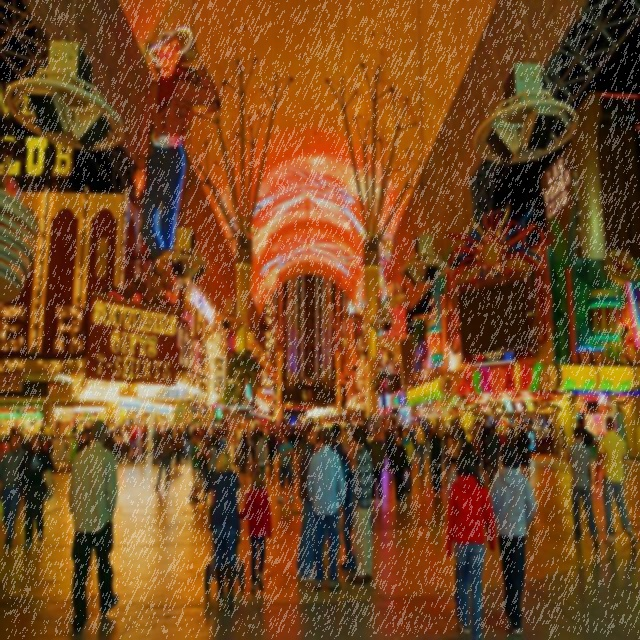pessoa: (133, 20, 222, 308), (64, 417, 120, 633), (443, 448, 500, 638), (487, 439, 538, 637), (304, 424, 348, 592), (445, 440, 487, 600), (206, 446, 242, 614), (593, 413, 638, 546), (16, 430, 56, 550), (235, 466, 272, 594), (346, 422, 374, 586), (348, 420, 376, 577), (566, 424, 600, 550), (294, 421, 320, 584), (338, 438, 362, 575), (0, 432, 27, 549), (388, 432, 410, 507), (366, 426, 386, 506), (274, 430, 295, 503), (64, 408, 98, 452), (426, 424, 446, 498), (499, 431, 522, 492), (187, 433, 207, 503), (576, 416, 596, 482), (483, 422, 503, 488), (152, 428, 172, 491), (400, 429, 417, 497), (202, 434, 220, 497), (514, 422, 532, 484), (330, 421, 350, 468), (212, 429, 226, 491), (444, 426, 461, 476), (414, 418, 428, 477), (120, 422, 138, 464), (253, 430, 265, 490), (199, 435, 210, 498), (383, 422, 396, 474), (468, 428, 482, 476), (290, 420, 304, 464), (556, 423, 571, 463), (150, 424, 163, 466), (246, 413, 276, 431), (237, 429, 249, 473), (108, 430, 123, 464), (12, 416, 39, 434), (137, 422, 148, 464), (478, 423, 488, 469), (38, 423, 55, 450), (526, 410, 553, 426), (466, 412, 489, 429), (188, 420, 212, 435), (250, 425, 259, 463), (266, 432, 276, 466), (174, 431, 183, 466), (182, 421, 190, 458), (374, 413, 392, 429), (212, 417, 229, 432), (170, 430, 176, 470), (397, 420, 414, 432), (449, 408, 459, 428), (460, 429, 470, 448), (118, 414, 136, 424), (276, 423, 282, 447), (168, 422, 182, 431), (365, 428, 374, 441), (443, 424, 450, 440), (282, 420, 290, 430), (224, 444, 230, 456), (429, 420, 436, 430)
